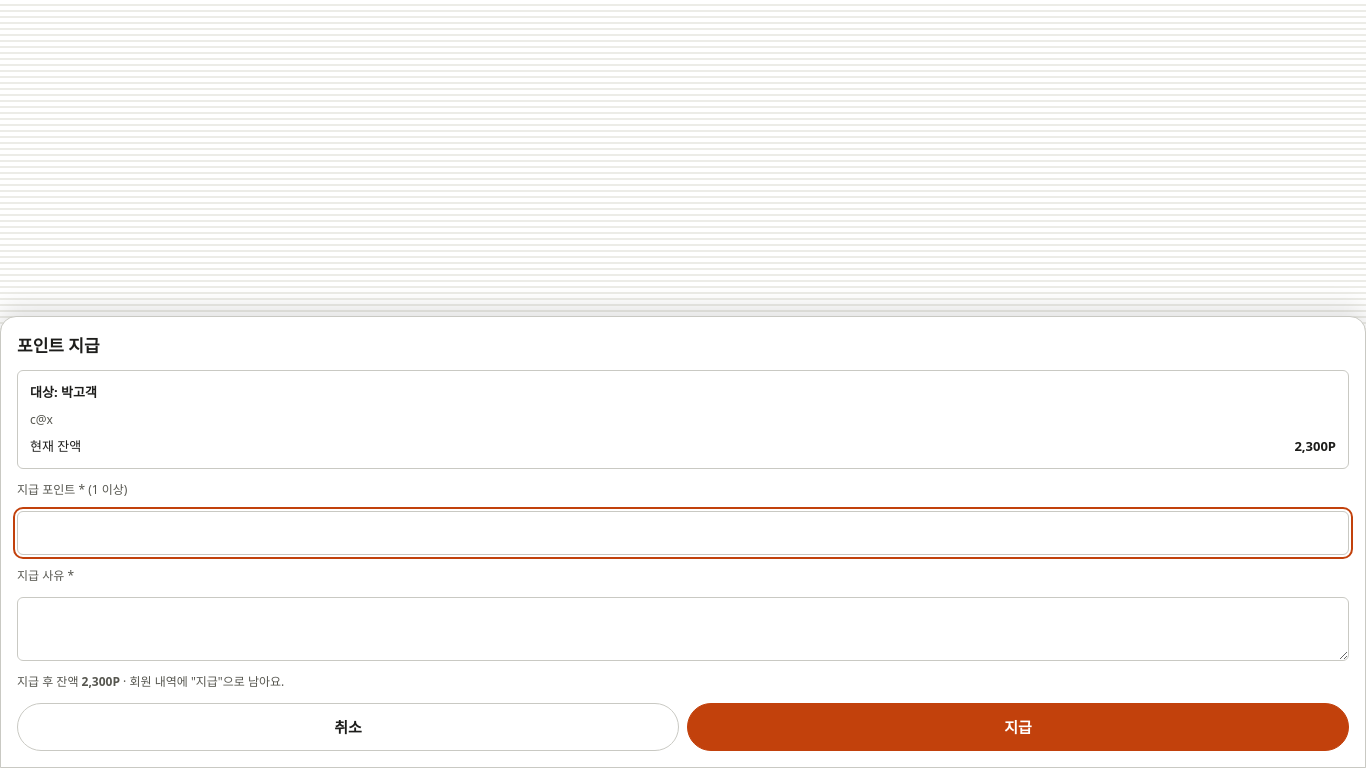
PointGrantSheet (M4) › 버튼 문구에 금액, 지급 후 잔액을 보인다
The width and height of the screenshot is (1366, 768).
Expected: the text "2,300P" is shown 2 times, [1294,436,1336,456]; [82,673,120,690]
Expected: the button "지급" is shown, [687,703,1349,751]
Type "1,000" into the field labelled "지급 포인트 * (1 이상)". click: (683, 533)
box: [17,511,1349,555]
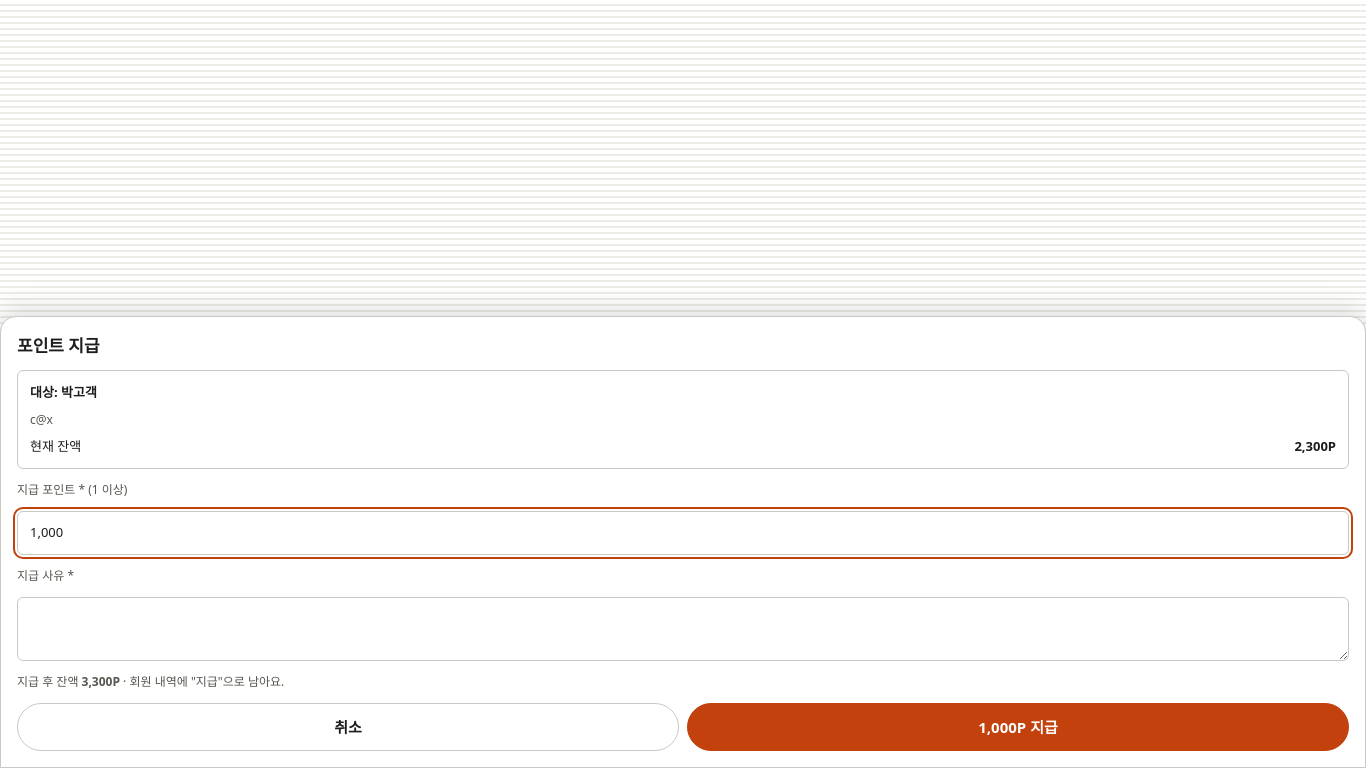
Expected: the button "1,000P 지급" is shown, [687,703,1349,751]
Expected: the text "3,300P" is shown, [82,673,120,690]
